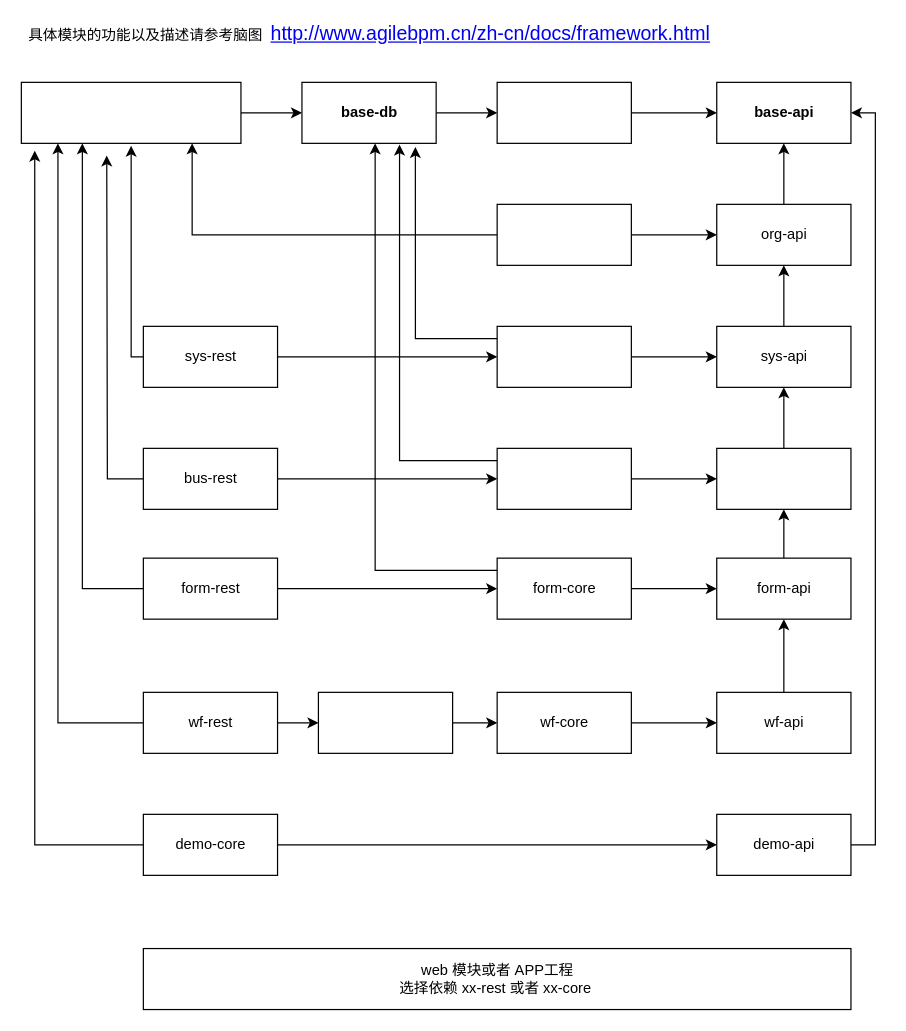
Some shapes in this 906 by 1031 pixel diagram are drawn without their labels. Each missing label, with the centre of its shape:
"base-core" belongs at point (563, 112).
"base-rest" belongs at point (130, 112).
"bus-api" belongs at point (783, 478).
"bus-core" belongs at point (563, 478).
"org-core" belongs at point (563, 234).
"sys-core" belongs at point (563, 356).
"wf-plugins" belongs at point (385, 722).
